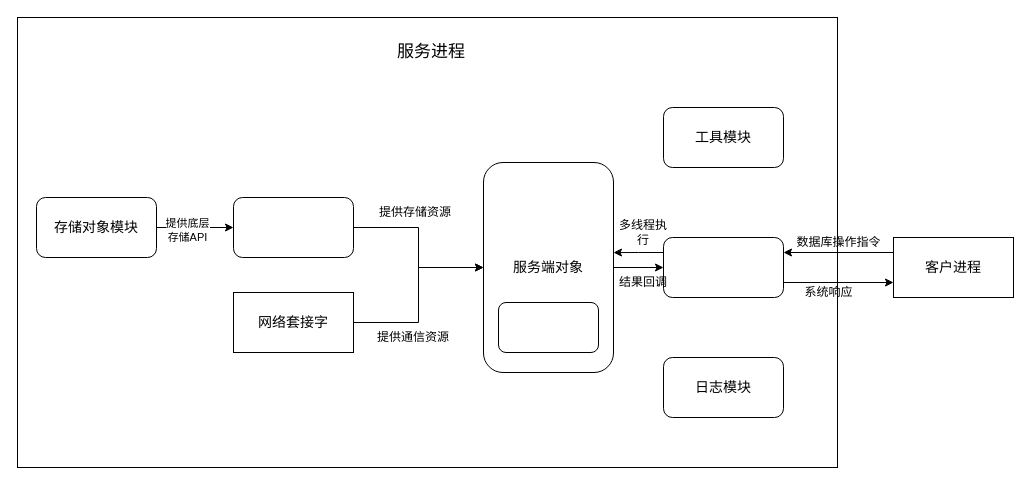
This 1031x485 diagram has some shape labels left out. Each missing label, with the centre of its shape:
"命令中心模块" belongs at (x=723, y=267).
"客户端对象" belongs at (x=548, y=327).
"数据库模块" belongs at (x=293, y=227).
